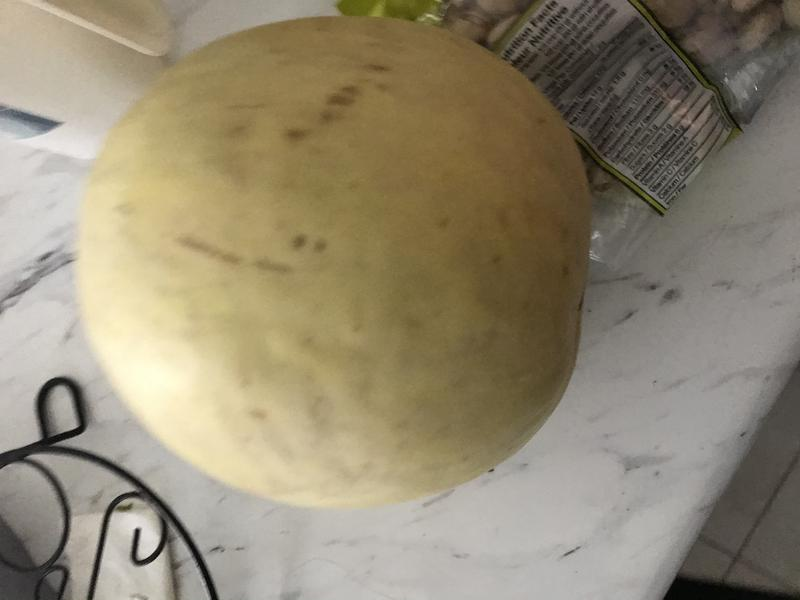honeydew: (54, 3, 608, 527)
